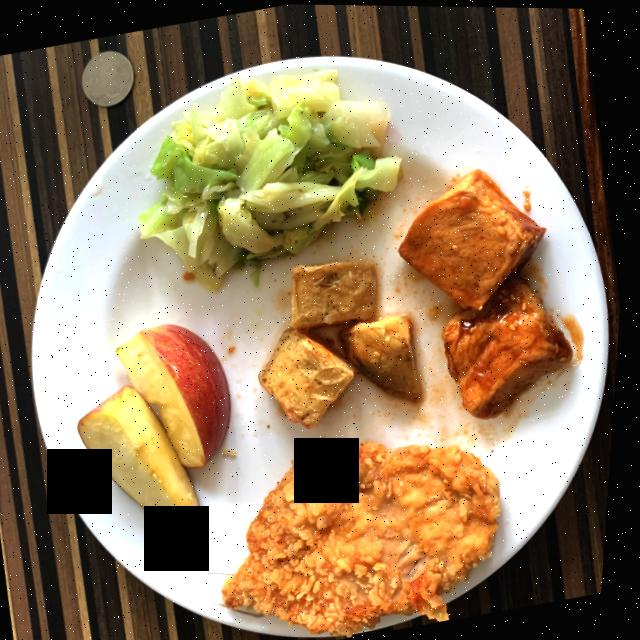apple -sliced-: (84, 323, 236, 528)
cabbage: (143, 69, 403, 289)
coin: (83, 50, 136, 107)
creamy tofu: (403, 167, 578, 418)
fried chicken cutlet: (230, 441, 508, 635)
fried potato: (265, 261, 428, 427)
